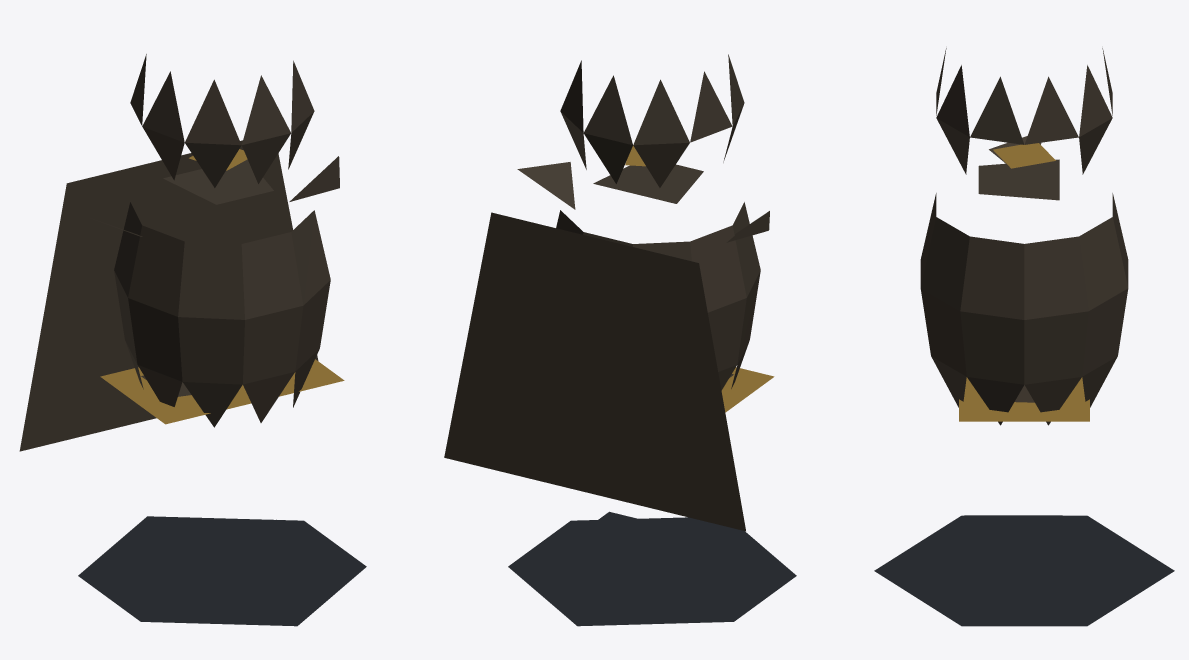
File: cloak.lod.glb
The picture shows the model from 3 angles, left to right: view 1: azimuth 30°, elevation 25°; view 2: azimuth 150°, elevation 25°; view 3: azimuth 270°, elevation 25°; orthographic projection.
Visible parts, largest first — view 1: m; view 2: m; view 3: m.
Boxes of the visible parts, x1,y1,x2,y2 form: m: (19,54,366,626); m: (444,54,796,626); m: (874,48,1174,626).
Bounding box in the file's own units: 0.3472 × 0.5144 × 0.2572.
